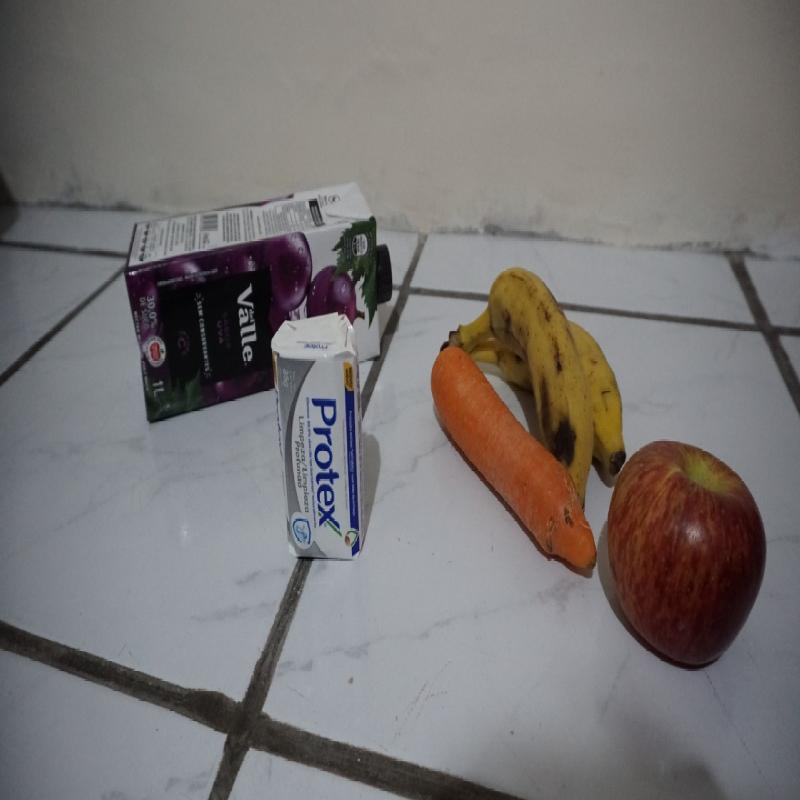Apple: (605, 439, 770, 669)
Banana: (440, 265, 627, 516)
Carrot: (429, 345, 599, 575)
Soap: (270, 317, 368, 564)
